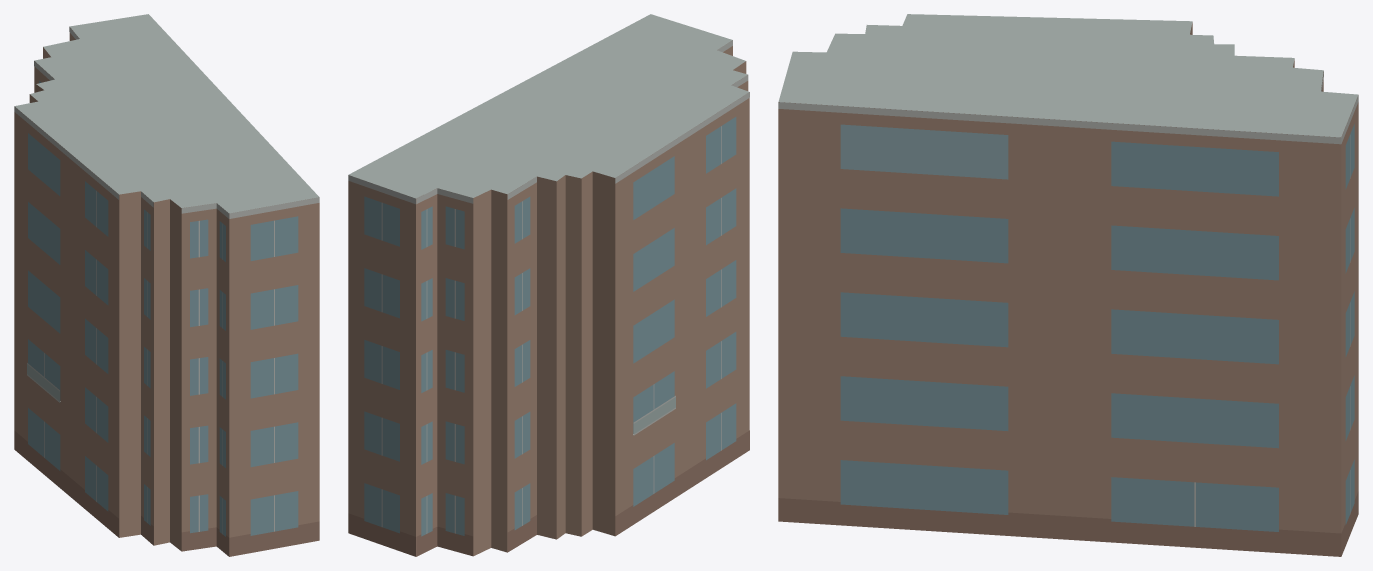
Rendered from survey-upis-32616456.glb.
3 views of the same model, side by side, from view 1: azimuth 30°, elevation 25°; view 2: azimuth 150°, elevation 25°; view 3: azimuth 270°, elevation 25° (orthographic). The views are drawn at different scales.
Parts seen in each view (by area): view 1: survey-upis-32616456.tmp; view 2: survey-upis-32616456.tmp; view 3: survey-upis-32616456.tmp.
Boxes of the visible parts, x1=… form: survey-upis-32616456.tmp: x1=14, y1=14, x2=319, y2=556; survey-upis-32616456.tmp: x1=348, y1=14, x2=749, y2=556; survey-upis-32616456.tmp: x1=778, y1=14, x2=1358, y2=556.
Size of the model in its own units: 9.51 by 15.05 by 18.88.
